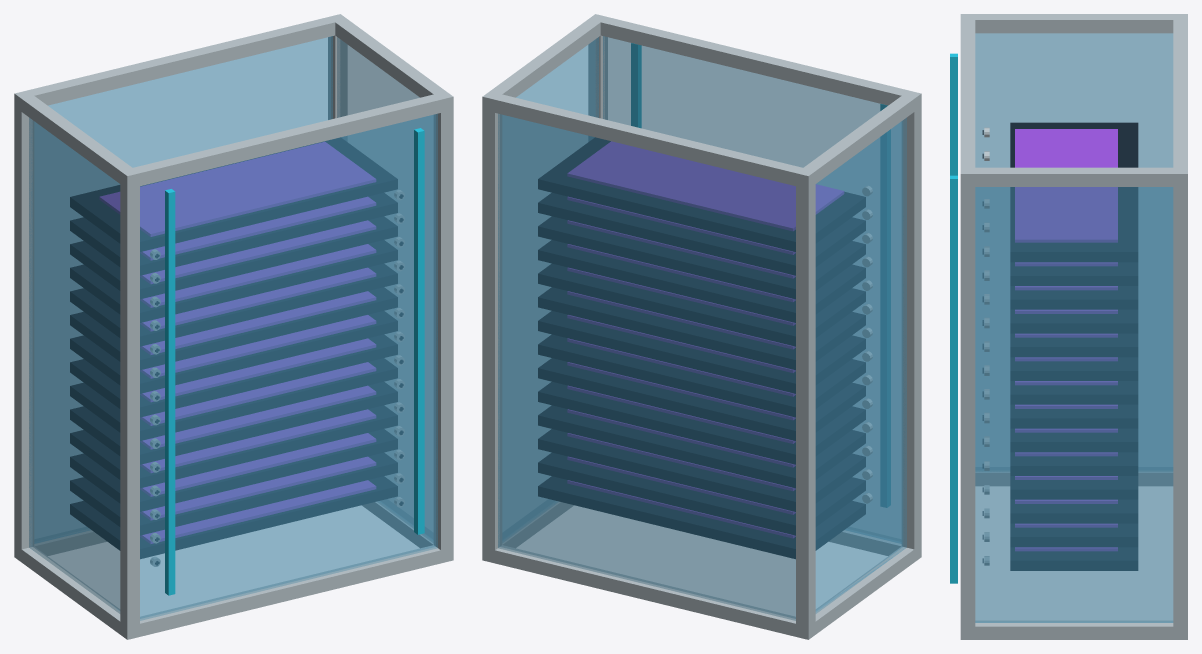
File: 18_L74_PrecisionReticleStorageCassette.fbx
3 views of the same model, side by side, from view 1: azimuth 30°, elevation 25°; view 2: azimuth 150°, elevation 25°; view 3: azimuth 270°, elevation 25° (orthographic).
Parts seen in each view (by area): view 1: PrecisionReticleStorageCassette; view 2: PrecisionReticleStorageCassette; view 3: PrecisionReticleStorageCassette.
Part boxes in pixels (left/top/right/bottom): PrecisionReticleStorageCassette: left=14, top=14, right=453, bottom=639; PrecisionReticleStorageCassette: left=482, top=14, right=921, bottom=639; PrecisionReticleStorageCassette: left=950, top=14, right=1187, bottom=639.
Size of the model in its own units: 195 by 265 by 122.
